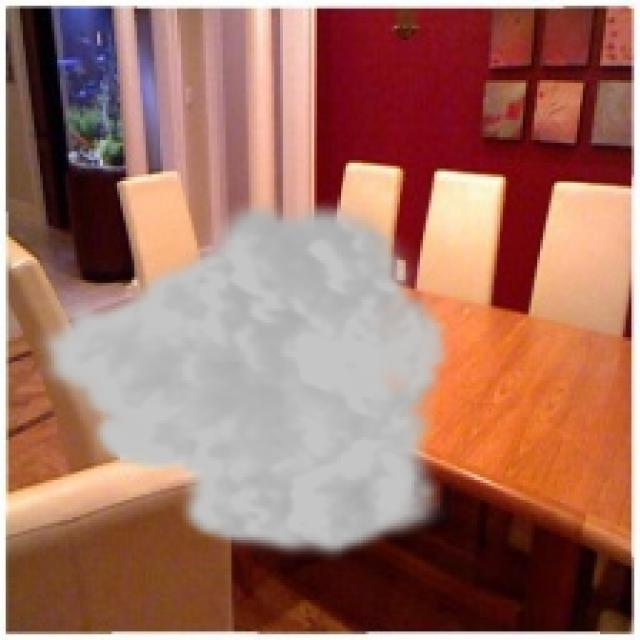smoke: (32, 191, 454, 563)
